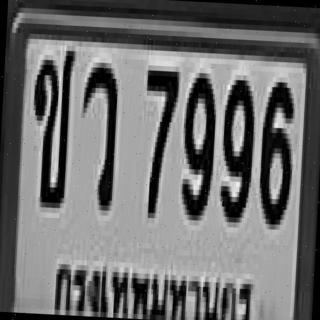A10: (27, 44, 74, 204)
A37: (77, 57, 118, 206)
N06: (256, 76, 295, 225)
N07: (139, 66, 178, 214)
N09: (179, 68, 216, 216), (218, 74, 255, 218)
P04: (44, 254, 258, 320)
